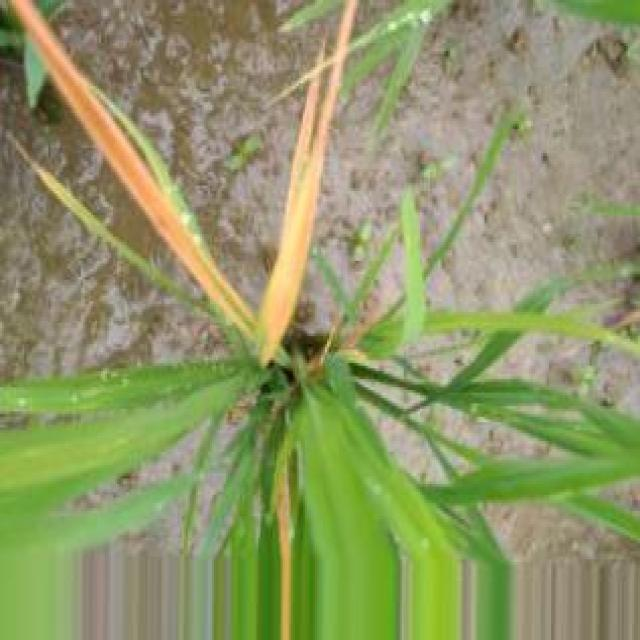Rice Tungro: (12, 0, 356, 365), (13, 0, 254, 335)
